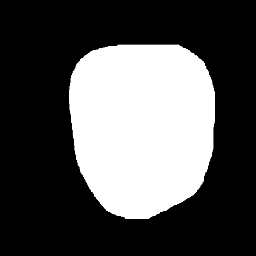mass: (95, 69, 214, 224)
